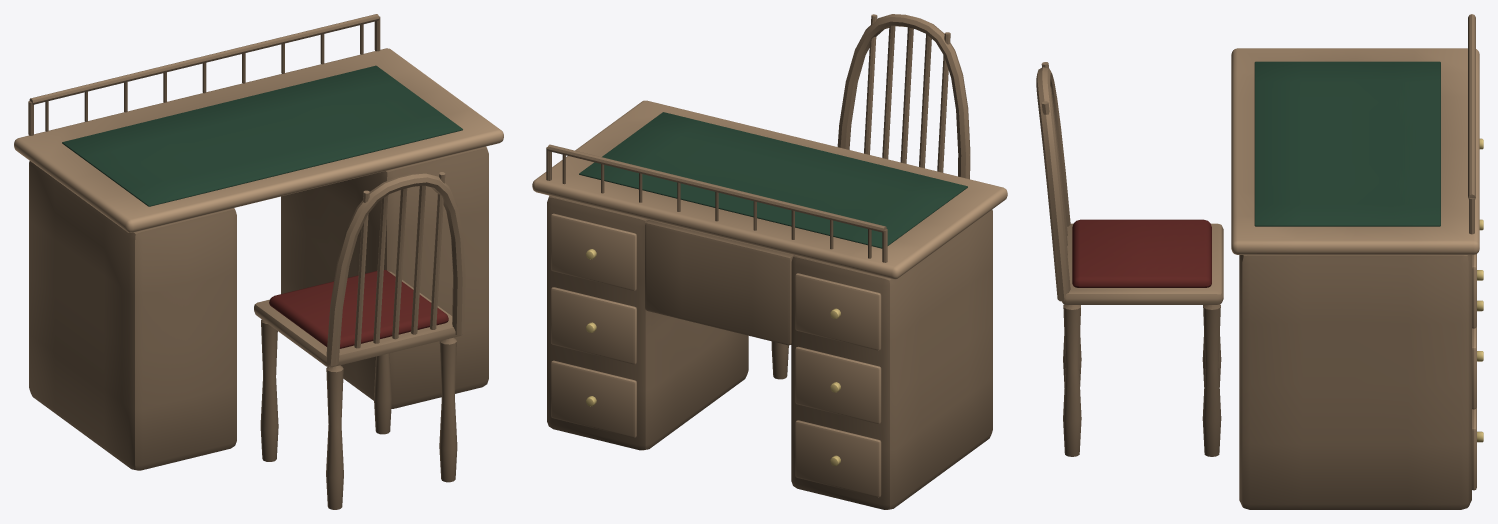
The model's file is obj_kit_writingdesk.glb.
3 views of the same model, side by side, from view 1: azimuth 30°, elevation 25°; view 2: azimuth 150°, elevation 25°; view 3: azimuth 270°, elevation 25° (orthographic). The views are drawn at different scales.
Parts seen in each view (by area): view 1: Cube, Cube.010, Cube.004, Cube.009, Cube.012, back, Cube.011, rail, cleg, cleg.002, cleg.001, cleg.003 (+5 smaller); view 2: Cube, Cube.010, Cube.009, Cube.004, Cube.008, Cube.002, Cube.001, Cube.003, Cube.006, Cube.005, Cube.007, back (+7 smaller); view 3: Cube.004, Cube.010, Cube.009, Cube.012, back, Cube.011, cleg.002, cleg.003, rail.
Part boxes in pixels (x1,y1,x2,y2): Cube: (29, 161, 236, 470); Cube.010: (62, 65, 462, 206); Cube.004: (281, 146, 488, 408); Cube.009: (14, 48, 503, 232); Cube.012: (269, 269, 448, 348); back: (326, 173, 465, 365); Cube.011: (254, 271, 462, 367); rail: (29, 14, 379, 104); cleg: (326, 365, 343, 509); cleg.002: (439, 337, 457, 482); cleg.001: (260, 319, 278, 461); cleg.003: (374, 353, 391, 434); Cube: (791, 209, 992, 509); Cube.010: (579, 112, 967, 248); Cube.009: (532, 100, 1007, 279); Cube.004: (547, 195, 748, 450); Cube.008: (645, 220, 793, 345); Cube.002: (795, 346, 881, 423); Cube.001: (795, 420, 881, 497); Cube.003: (795, 273, 881, 350); Cube.006: (551, 287, 636, 364); Cube.005: (551, 360, 636, 437); Cube.007: (551, 213, 636, 290); back: (837, 14, 970, 179); Cube.004: (1239, 255, 1471, 509); Cube.010: (1254, 61, 1440, 226); Cube.009: (1231, 48, 1479, 254); Cube.012: (1072, 219, 1211, 287); back: (1036, 67, 1070, 301); Cube.011: (1062, 223, 1223, 304); cleg.002: (1063, 304, 1081, 456); cleg.003: (1202, 304, 1221, 456); rail: (1468, 14, 1475, 199).
Size of the model in its own units: 1.2 by 0.9923 by 1.15.
